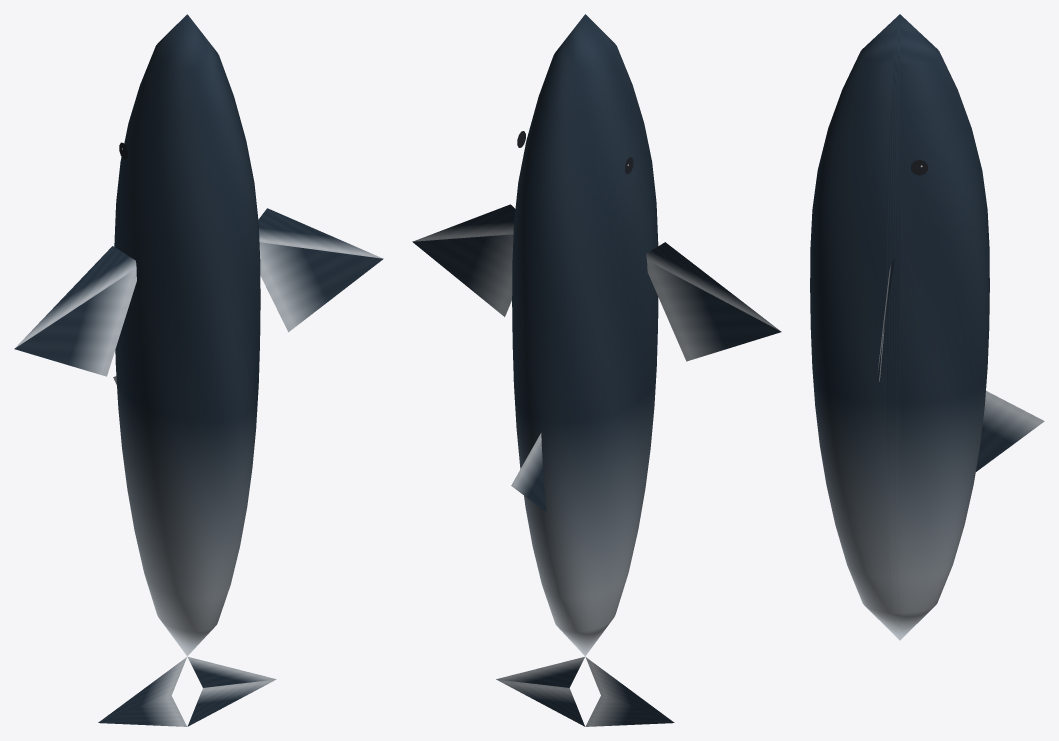
Rendered from whale.glb.
3 views of the same model, side by side, from view 1: azimuth 30°, elevation 25°; view 2: azimuth 150°, elevation 25°; view 3: azimuth 270°, elevation 25° (orthographic). The views are drawn at different scales.
Parts seen in each view (by area): view 1: whale_body, whale_pectoral_R, whale_pectoral_L, whale_tail; view 2: whale_body, whale_pectoral_L, whale_pectoral_R, whale_tail; view 3: whale_body.
Boxes of the visible parts, <box> form: whale_body: <box>113,14,260,656</box>; whale_pectoral_R: <box>258,208,383,332</box>; whale_pectoral_L: <box>14,246,136,376</box>; whale_tail: <box>98,656,276,726</box>; whale_body: <box>511,14,658,656</box>; whale_pectoral_L: <box>646,242,781,361</box>; whale_pectoral_R: <box>412,204,515,316</box>; whale_tail: <box>496,656,674,726</box>; whale_body: <box>810,14,1044,640</box>.
Bounding box in the file's own units: 1.65 × 3.04 × 0.9302.
3 materials, 1 textured.
